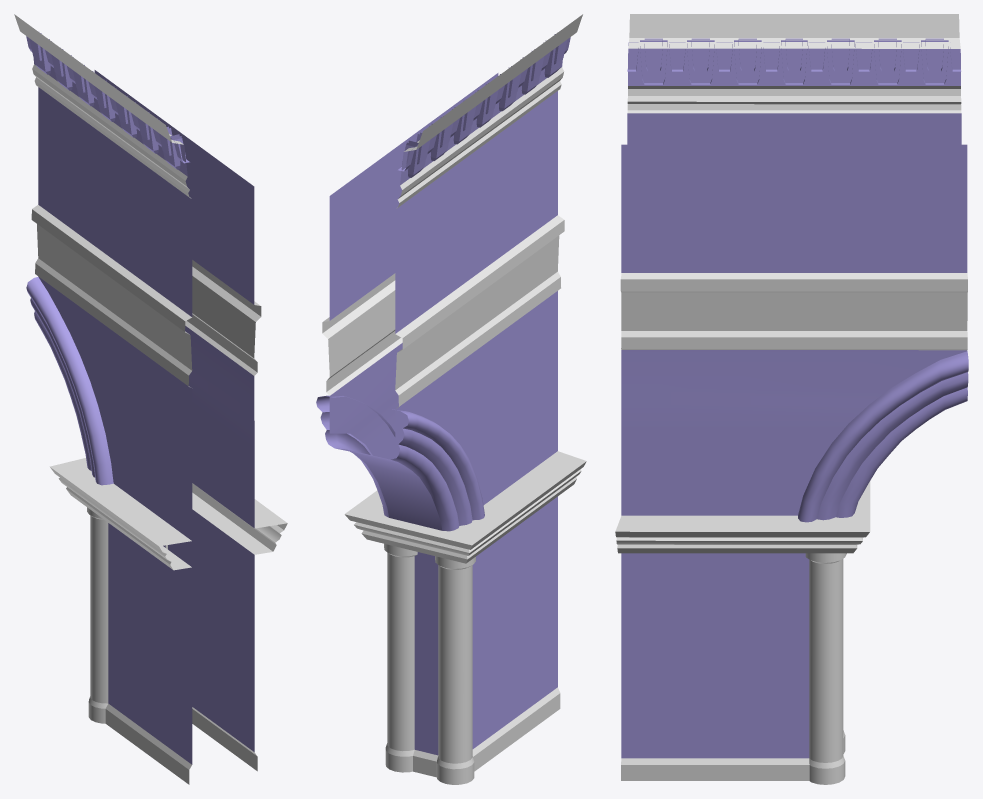
File: Arch End Left.fbx
3 views of the same model, side by side, from view 1: azimuth 30°, elevation 25°; view 2: azimuth 150°, elevation 25°; view 3: azimuth 270°, elevation 25° (orthographic). The views are drawn at different scales.
Visible parts, largest first — view 1: Arch End Left_LOD0; view 2: Arch End Left_LOD0; view 3: Arch End Left_LOD0.
Boxes of the visible parts, box(x1,y1,x2,y2) form: Arch End Left_LOD0: box(14, 14, 287, 784); Arch End Left_LOD0: box(316, 14, 586, 784); Arch End Left_LOD0: box(615, 14, 968, 784).
Size of what is drawn, in the model's own units: 161 by 844 by 375.
